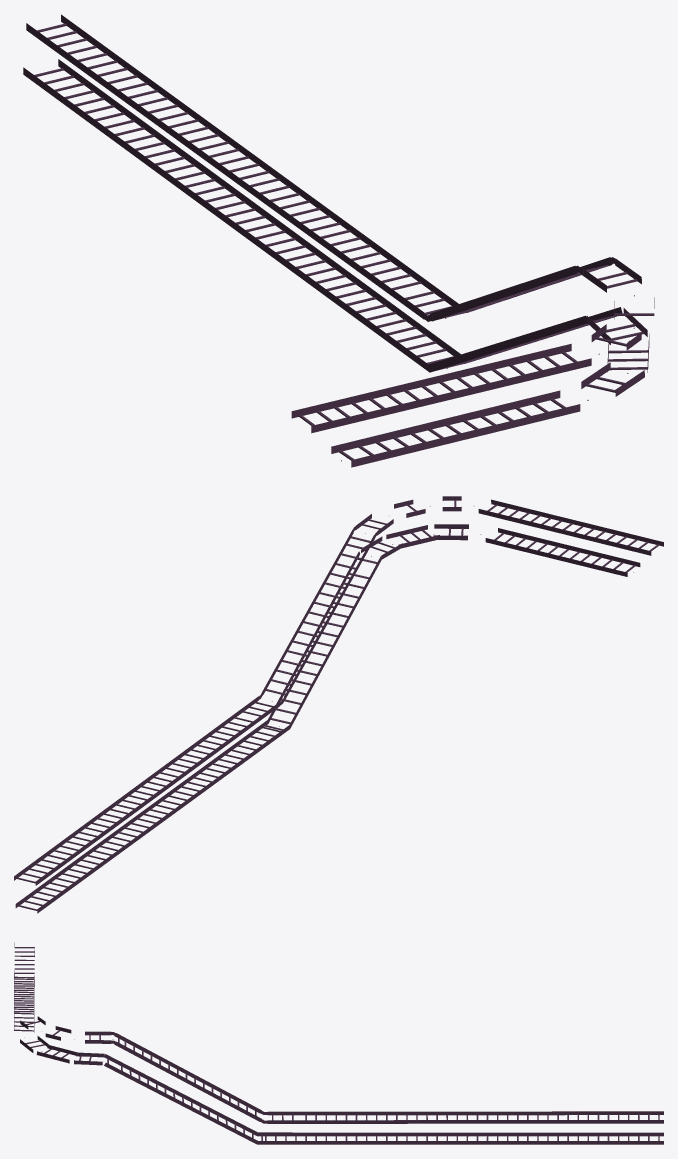
File: GCC-AAV-13220-30(52).fbx
3 views of the same model, one above another, from view 1: azimuth 30°, elevation 25°; view 2: azimuth 150°, elevation 25°; view 3: azimuth 270°, elevation 25° (orthographic). The views are drawn at different scales.
Visible parts, largest first — view 1: CTRAY 1 of CTSTRA 194 of CTMTRL 1 of CWBRAN 1 of CWAY /13220, CTRAY 1 of CTSTRA 195 of CTMTRL 1 of CWBRAN 1 of CWAY /13220, CTRAY 1 of CTSTRA 192 of CTMTRL 1 of CWBRAN 1 of CWAY /13220, CTRAY 1 of CTSTRA 193 of CTMTRL 1 of CWBRAN 1 of CWAY /13220, CTRAY 1 of CTSTRA 193 of CTMTRL 1 of CWBRAN 3 of CWAY /13220, CTRAY 1 of CTSTRA 192 of CTMTRL 1 of CWBRAN 3 of CWAY /13220, CTRAY 1 of CTSTRA 194 of CTMTRL 1 of CWBRAN 3 of CWAY /13220, CTRAY 1 of CTSTRA 181 of CTMTRL 1 of CWBRAN 1 of CWAY /13220, CTRAY 1 of CTSTRA 177 of CTMTRL 1 of CWBRAN 1 of CWAY /13220, CTRAY 1 of CTSTRA 175 of CTMTRL 1 of CWBRAN 1 of CWAY /13220, CTRAY 1 of CTSTRA 179 of CTMTRL 1 of CWBRAN 1 of CWAY /13220, CTRAY 1 of CTSTRA 178 of CTMTRL 1 of CWBRAN 1 of CWAY /13220 (+16 smaller); view 2: no part large enough to name; view 3: CTRAY 1 of CTSTRA 178 of CTMTRL 1 of CWBRAN 1 of CWAY /13220, CTRAY 1 of CTSTRA 181 of CTMTRL 1 of CWBRAN 1 of CWAY /13220, CTRAY 1 of CTSTRA 174 of CTMTRL 1 of CWBRAN 3 of CWAY /13220, CTRAY 1 of CTSTRA 177 of CTMTRL 1 of CWBRAN 3 of CWAY /13220, CTRAY 1 of CTSTRA 180 of CTMTRL 1 of CWBRAN 3 of CWAY /13220, CTRAY 1 of CTSTRA 177 of CTMTRL 1 of CWBRAN 1 of CWAY /13220, CTRAY 1 of CTSTRA 179 of CTMTRL 1 of CWBRAN 1 of CWAY /13220, CTRAY 1 of CTSTRA 180 of CTMTRL 1 of CWBRAN 1 of CWAY /13220, CTRAY 1 of CTSTRA 182 of CTMTRL 1 of CWBRAN 1 of CWAY /13220, CTRAY 1 of CTSTRA 173 of CTMTRL 1 of CWBRAN 3 of CWAY /13220, CTRAY 1 of CTSTRA 175 of CTMTRL 1 of CWBRAN 3 of CWAY /13220, CTRAY 1 of CTSTRA 176 of CTMTRL 1 of CWBRAN 3 of CWAY /13220 (+17 smaller).
Boxes of the visible parts, left/top/right/bottom form: CTRAY 1 of CTSTRA 194 of CTMTRL 1 of CWBRAN 1 of CWAY /13220: left=361, top=377, right=451, bottom=416; CTRAY 1 of CTSTRA 195 of CTMTRL 1 of CWBRAN 1 of CWAY /13220: left=291, top=394, right=381, bottom=433; CTRAY 1 of CTSTRA 192 of CTMTRL 1 of CWBRAN 1 of CWAY /13220: left=501, top=343, right=591, bottom=382; CTRAY 1 of CTSTRA 193 of CTMTRL 1 of CWBRAN 1 of CWAY /13220: left=431, top=360, right=521, bottom=399; CTRAY 1 of CTSTRA 193 of CTMTRL 1 of CWBRAN 3 of CWAY /13220: left=420, top=407, right=510, bottom=445; CTRAY 1 of CTSTRA 192 of CTMTRL 1 of CWBRAN 3 of CWAY /13220: left=490, top=390, right=580, bottom=428; CTRAY 1 of CTSTRA 194 of CTMTRL 1 of CWBRAN 3 of CWAY /13220: left=350, top=425, right=440, bottom=462; CTRAY 1 of CTSTRA 181 of CTMTRL 1 of CWBRAN 1 of CWAY /13220: left=309, top=220, right=384, bottom=265; CTRAY 1 of CTSTRA 177 of CTMTRL 1 of CWBRAN 1 of CWAY /13220: left=147, top=103, right=222, bottom=147; CTRAY 1 of CTSTRA 175 of CTMTRL 1 of CWBRAN 1 of CWAY /13220: left=66, top=44, right=141, bottom=88; CTRAY 1 of CTSTRA 179 of CTMTRL 1 of CWBRAN 1 of CWAY /13220: left=228, top=162, right=303, bottom=206; CTRAY 1 of CTSTRA 178 of CTMTRL 1 of CWBRAN 1 of CWAY /13220: left=188, top=132, right=263, bottom=176; CTRAY 1 of CTSTRA 178 of CTMTRL 1 of CWBRAN 1 of CWAY /13220: left=462, top=1111, right=502, bottom=1123; CTRAY 1 of CTSTRA 181 of CTMTRL 1 of CWBRAN 1 of CWAY /13220: left=341, top=1111, right=381, bottom=1123; CTRAY 1 of CTSTRA 174 of CTMTRL 1 of CWBRAN 3 of CWAY /13220: left=583, top=1132, right=623, bottom=1144; CTRAY 1 of CTSTRA 177 of CTMTRL 1 of CWBRAN 3 of CWAY /13220: left=462, top=1132, right=502, bottom=1144; CTRAY 1 of CTSTRA 180 of CTMTRL 1 of CWBRAN 3 of CWAY /13220: left=341, top=1132, right=381, bottom=1144; CTRAY 1 of CTSTRA 177 of CTMTRL 1 of CWBRAN 1 of CWAY /13220: left=502, top=1111, right=542, bottom=1123; CTRAY 1 of CTSTRA 179 of CTMTRL 1 of CWBRAN 1 of CWAY /13220: left=422, top=1111, right=462, bottom=1123; CTRAY 1 of CTSTRA 180 of CTMTRL 1 of CWBRAN 1 of CWAY /13220: left=381, top=1111, right=421, bottom=1123; CTRAY 1 of CTSTRA 182 of CTMTRL 1 of CWBRAN 1 of CWAY /13220: left=301, top=1111, right=341, bottom=1123; CTRAY 1 of CTSTRA 173 of CTMTRL 1 of CWBRAN 3 of CWAY /13220: left=623, top=1132, right=663, bottom=1144; CTRAY 1 of CTSTRA 175 of CTMTRL 1 of CWBRAN 3 of CWAY /13220: left=543, top=1132, right=583, bottom=1144; CTRAY 1 of CTSTRA 176 of CTMTRL 1 of CWBRAN 3 of CWAY /13220: left=502, top=1132, right=542, bottom=1144.
Size of the model in its own units: 226 by 114 by 635.
